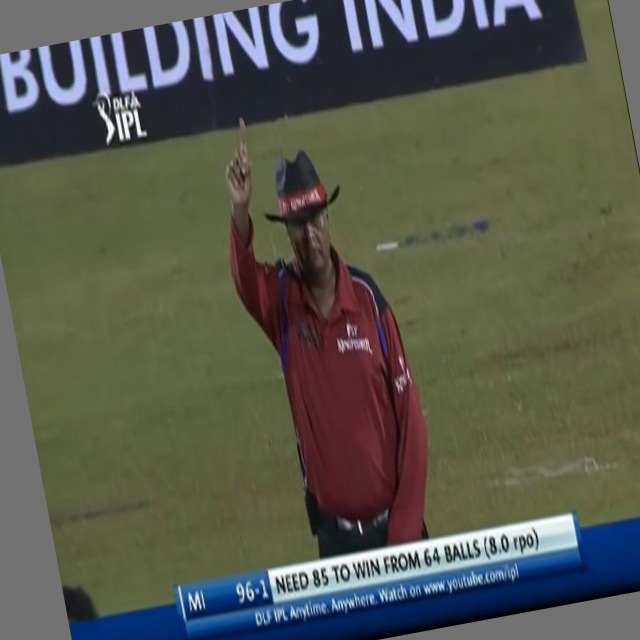Out: (197, 83, 453, 561)
